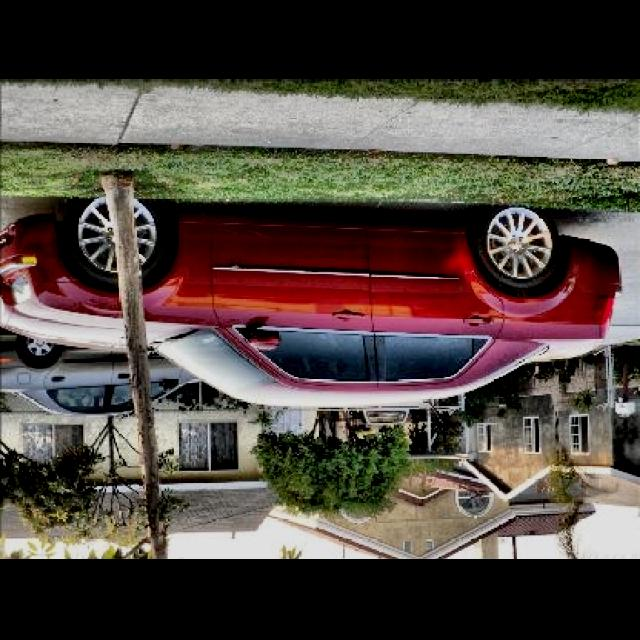red: (0, 174, 616, 411)
